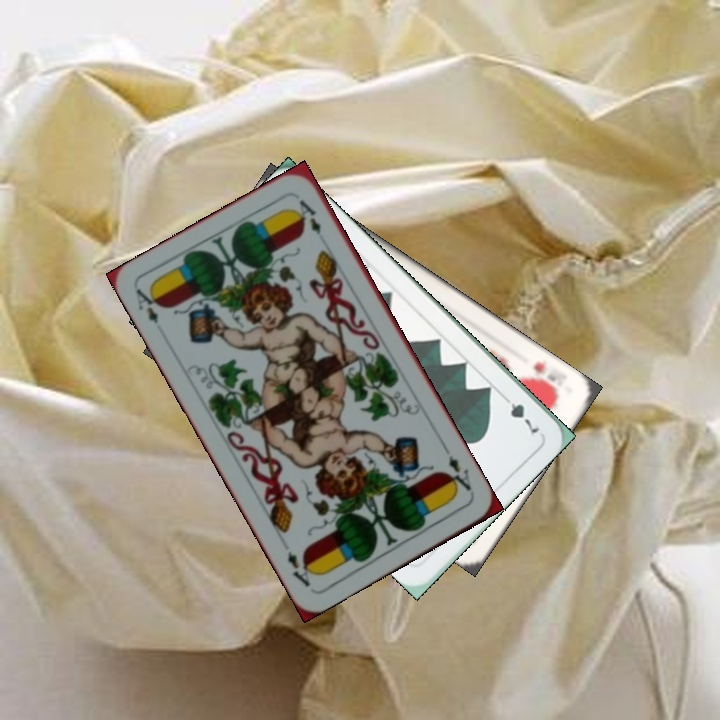EA: (440, 443, 474, 496), (131, 284, 165, 327)
G7: (497, 389, 542, 440)
HK: (524, 357, 563, 398)
